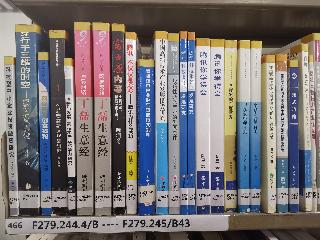book-spine: (13, 23, 41, 215), (92, 23, 112, 215), (48, 31, 68, 214), (74, 20, 92, 215), (111, 24, 127, 217), (196, 39, 212, 215), (138, 59, 156, 215), (2, 55, 19, 217), (249, 40, 265, 212), (37, 52, 53, 215), (274, 52, 290, 213), (210, 40, 224, 214), (225, 41, 239, 214), (168, 32, 181, 214), (124, 32, 137, 213), (155, 33, 168, 214), (63, 58, 77, 216), (186, 31, 198, 215), (299, 44, 312, 210), (179, 32, 189, 215), (265, 54, 276, 212), (308, 54, 319, 212), (238, 41, 248, 213), (289, 60, 299, 212)
